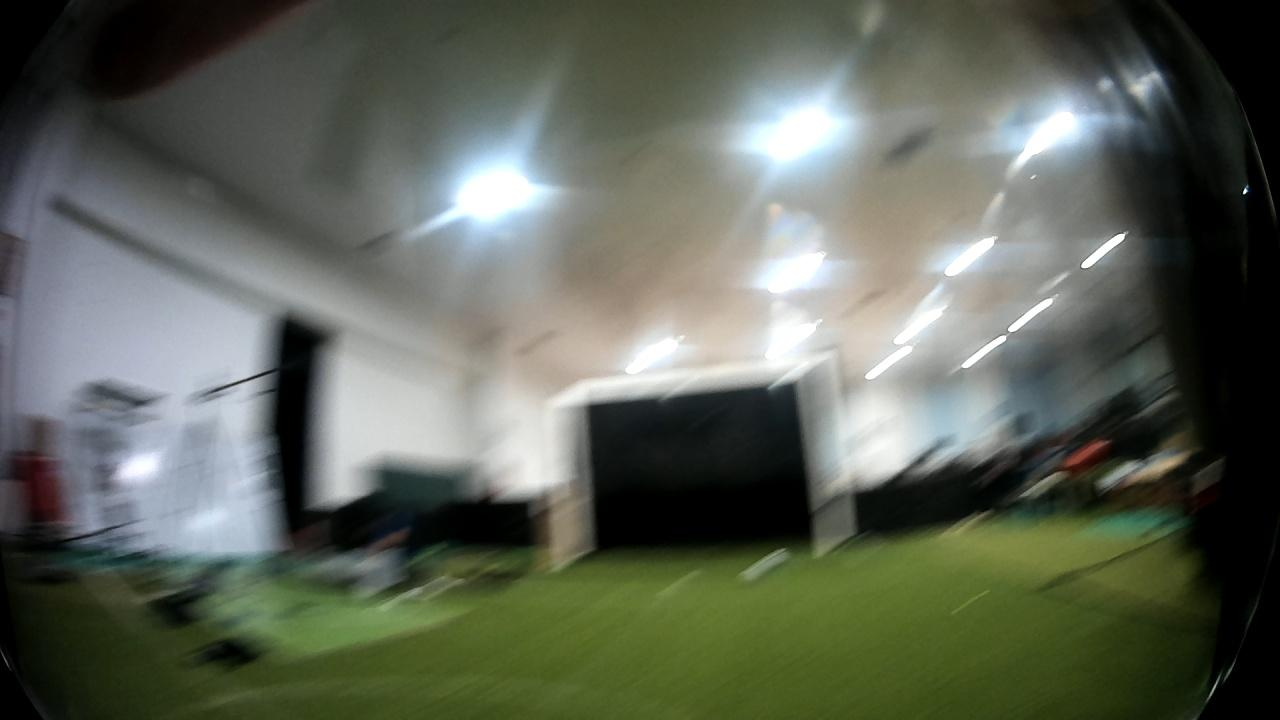ball: (730, 544, 793, 586)
